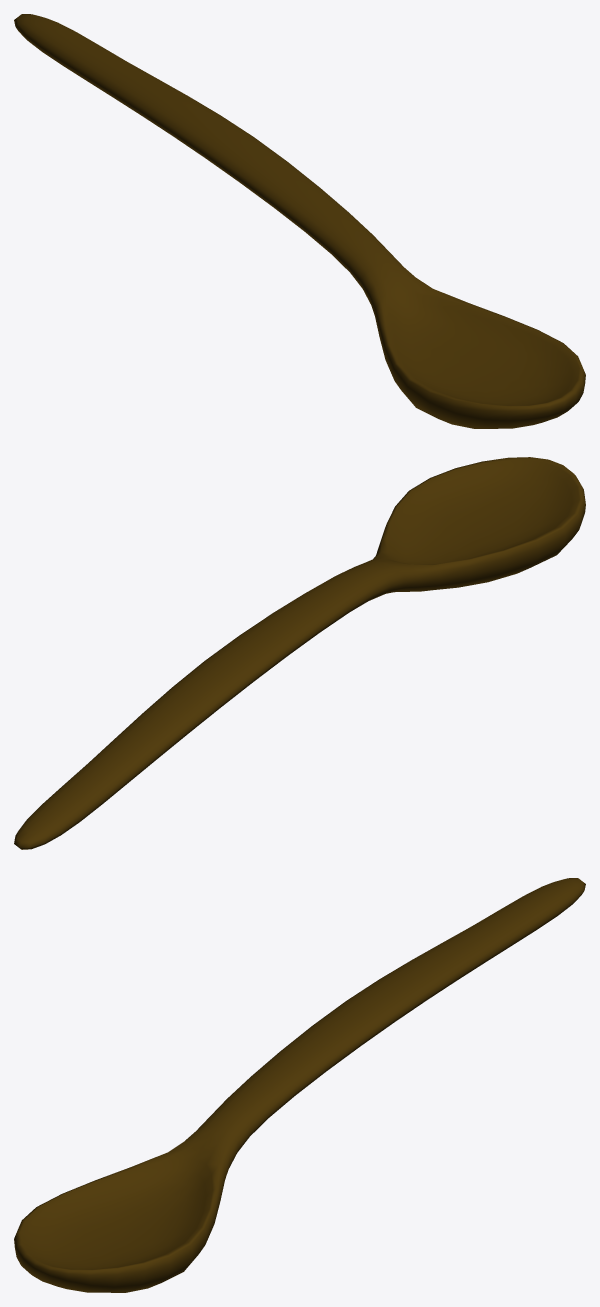
Rendered from SM_Prop_Spoon.fbx.
3 renders of one model, top to bottom at view 1: azimuth 30°, elevation 25°; view 2: azimuth 150°, elevation 25°; view 3: azimuth 330°, elevation 25°, orthographic.
Visible parts, largest first — view 1: SM_Prop_Spoon; view 2: SM_Prop_Spoon; view 3: SM_Prop_Spoon.
Boxes of the visible parts, x1=… form: SM_Prop_Spoon: x1=14, y1=14, x2=585, y2=428; SM_Prop_Spoon: x1=14, y1=457, x2=585, y2=849; SM_Prop_Spoon: x1=14, y1=878, x2=585, y2=1292.
Bounding box in the file's own units: 7.12 × 3.61 × 41.35.
